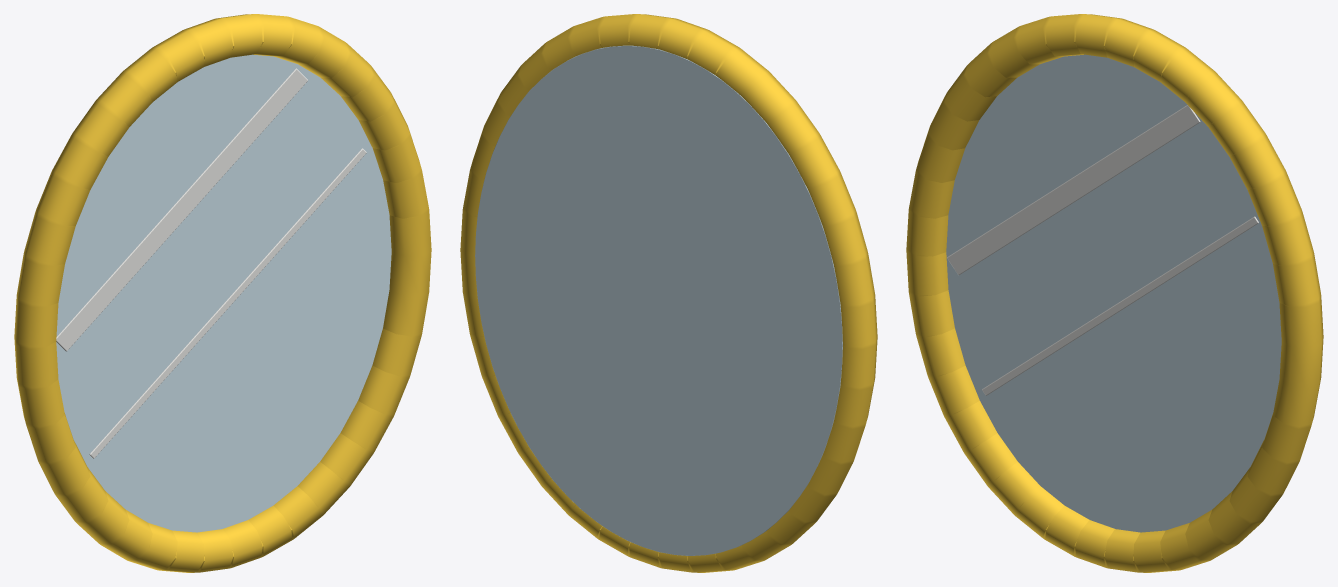
File: espelho_redondo_amarelo.glb
3 views of the same model, side by side, from view 1: azimuth 30°, elevation 25°; view 2: azimuth 150°, elevation 25°; view 3: azimuth 330°, elevation 25° (orthographic).
Parts seen in each view (by area): view 1: espelho_redondo_amarelo; view 2: espelho_redondo_amarelo; view 3: espelho_redondo_amarelo.
Part boxes in pixels (x1,y1,x2,y2): espelho_redondo_amarelo: [14, 14, 431, 572]; espelho_redondo_amarelo: [460, 14, 877, 572]; espelho_redondo_amarelo: [906, 14, 1323, 572].
Size of the model in its own units: 0.66 by 0.8399 by 0.06.
2 materials, 1 textured.
